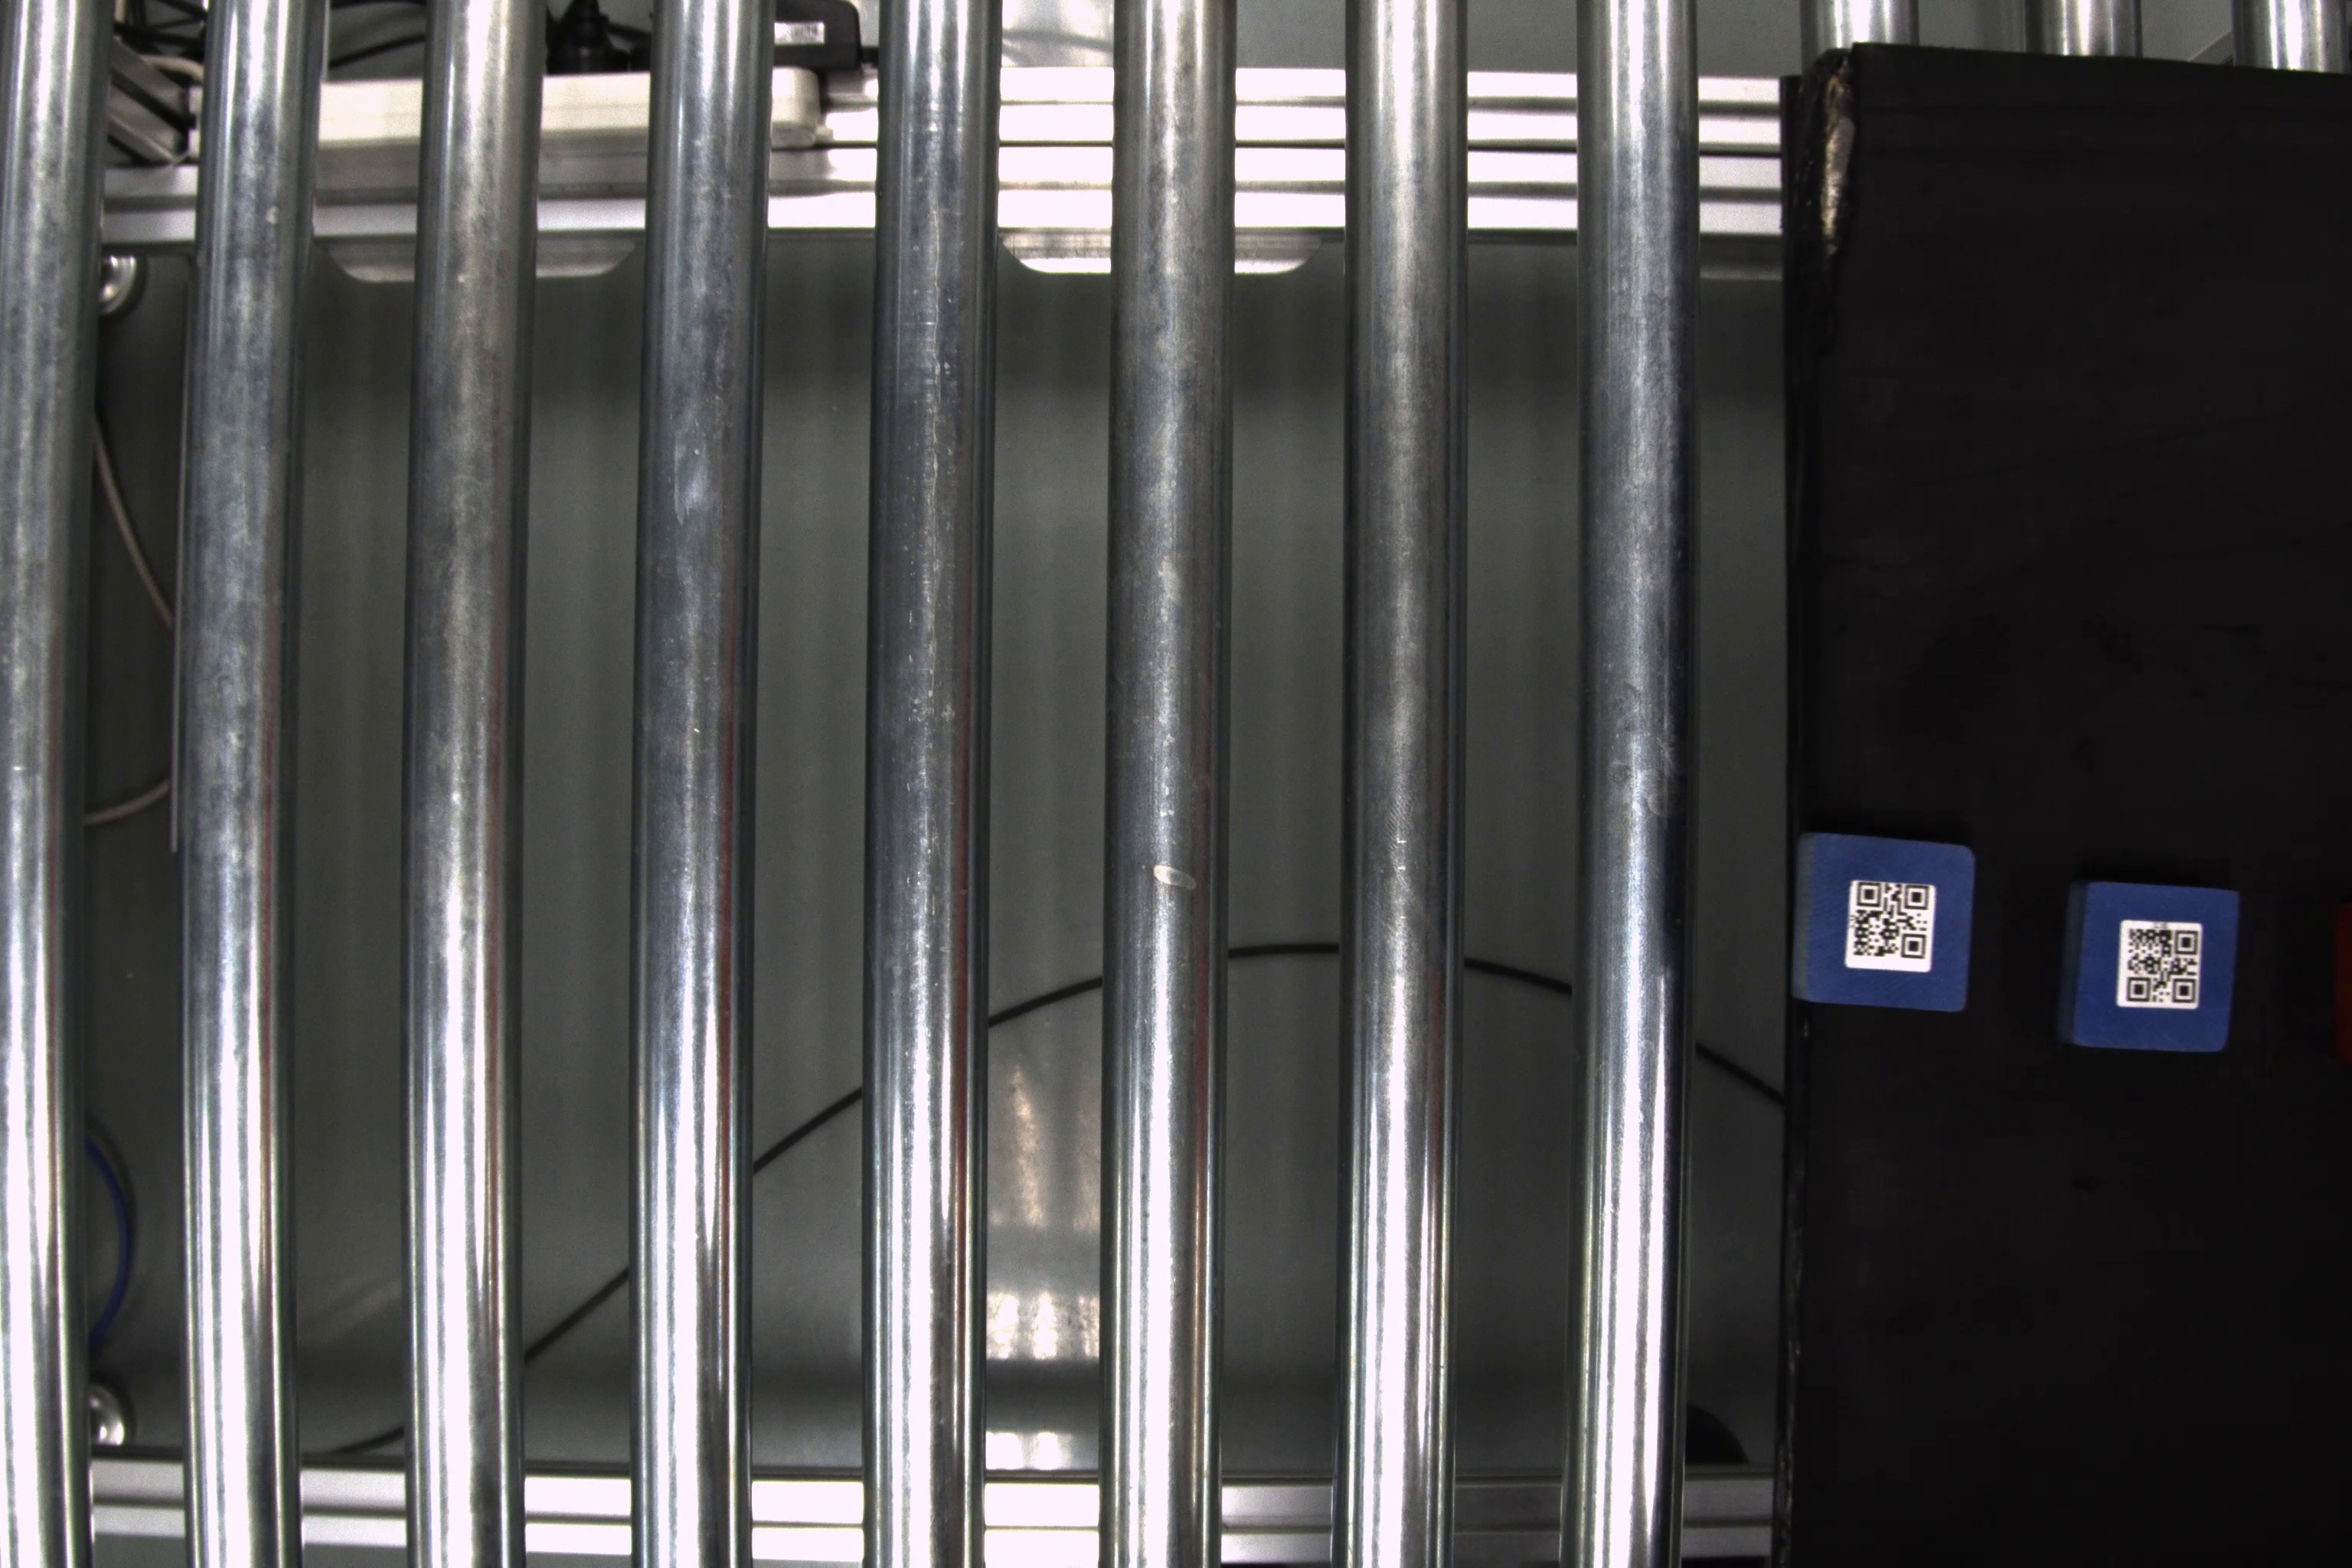wood: (1794, 826, 1979, 1018), (2056, 873, 2238, 1059)
